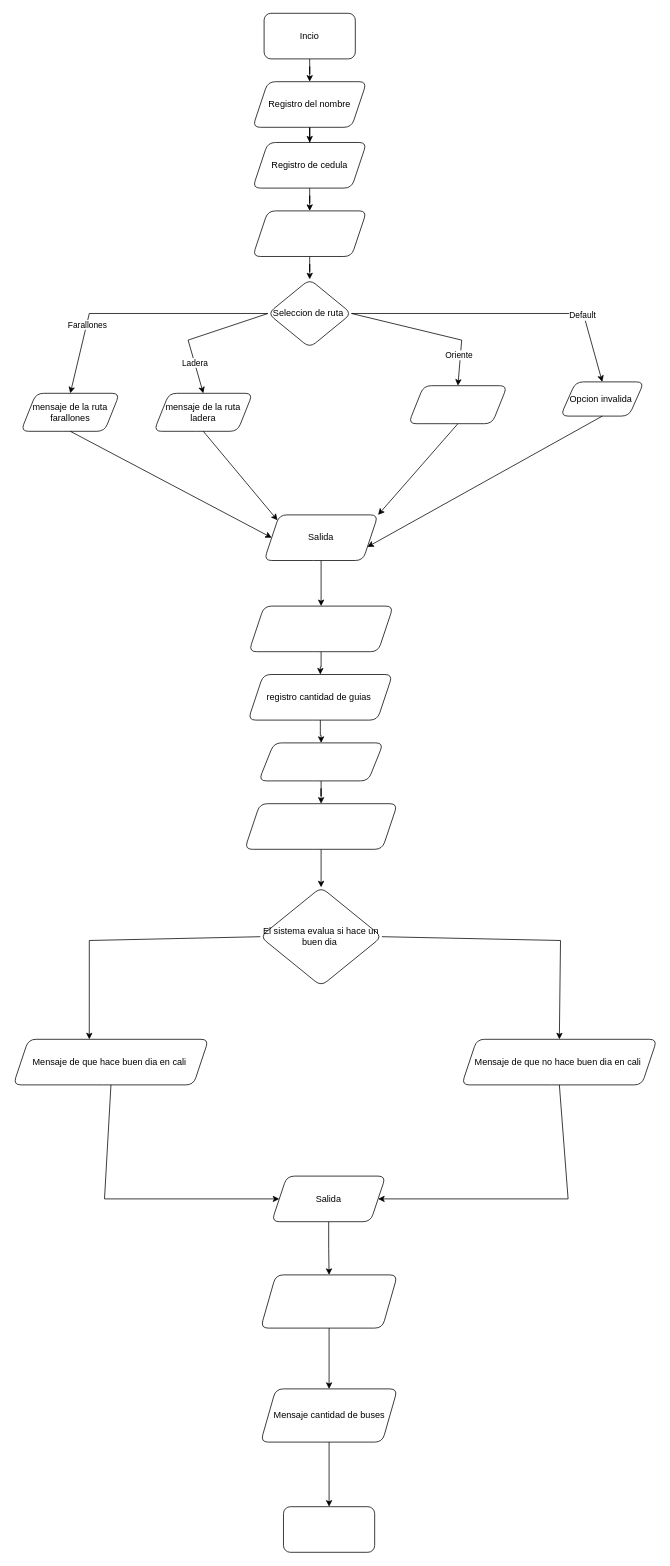
The diagram is 670 pixels wide and 1566 high, and some of its shapes have lost their labels. The centre of each missing label's shape, as x and y in pixels:
"El sistema revisa cuanta cantiadad de buses se necesita" belongs at point 328,1301.
"Fin" belongs at point 329,1529.
"mensaje de la ruta oriente" belongs at point 457,404.
"registro cantidad de asistentes" belongs at point 320,628.
"registro de humedad" belongs at point 320,826.
"Registro de ruta" belongs at point 309,233.
"registro de temperatura" belongs at point 320,761.
